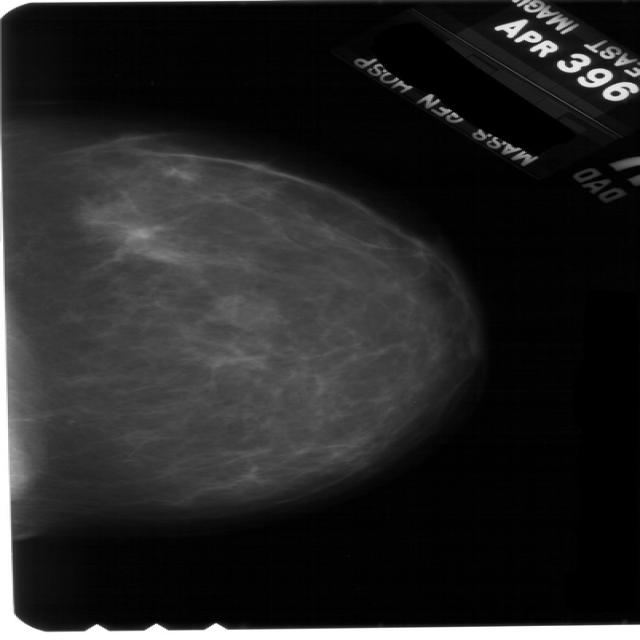tumour: (211, 291, 284, 331)
